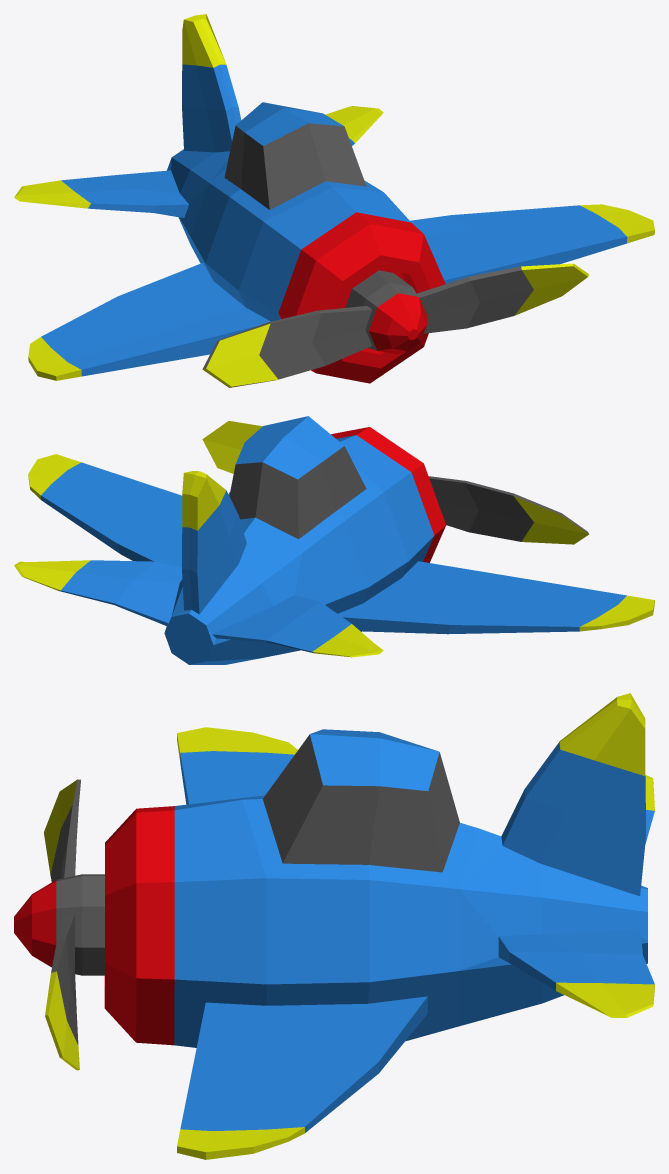
File: enemy.gltf
The picture shows the model from 3 angles, top to bottom: view 1: azimuth 30°, elevation 25°; view 2: azimuth 150°, elevation 25°; view 3: azimuth 270°, elevation 25°; orthographic projection. The views are drawn at different scales.
Parts seen in each view (by area): view 1: Cilindro, Cilindro.001; view 2: Cilindro, Cilindro.001; view 3: Cilindro, Cilindro.001.
Boxes of the visible parts, left/top/right/bottom form: Cilindro: left=14, top=14, right=654, bottom=383; Cilindro.001: left=202, top=263, right=588, bottom=387; Cilindro: left=14, top=416, right=654, bottom=664; Cilindro.001: left=202, top=421, right=589, bottom=544; Cilindro: left=104, top=693, right=654, bottom=1159; Cilindro.001: left=14, top=779, right=104, bottom=1070.
Size of the model in its own units: 6.79 by 2.62 by 4.33.
